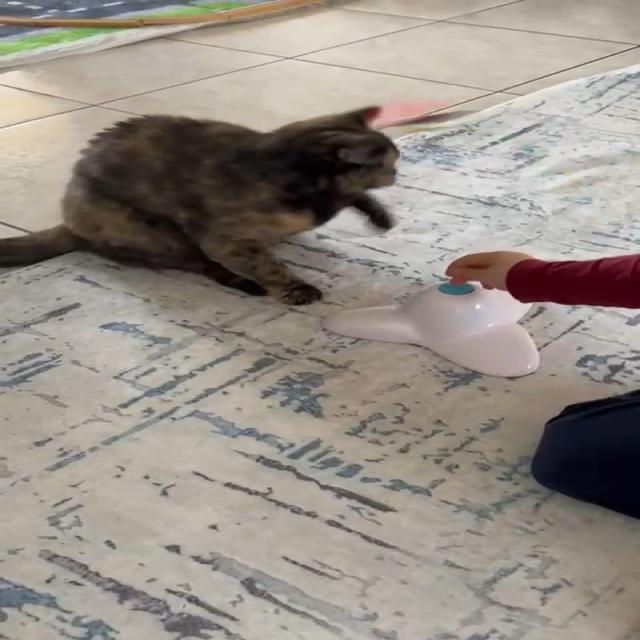authorized: (0, 104, 476, 306)
